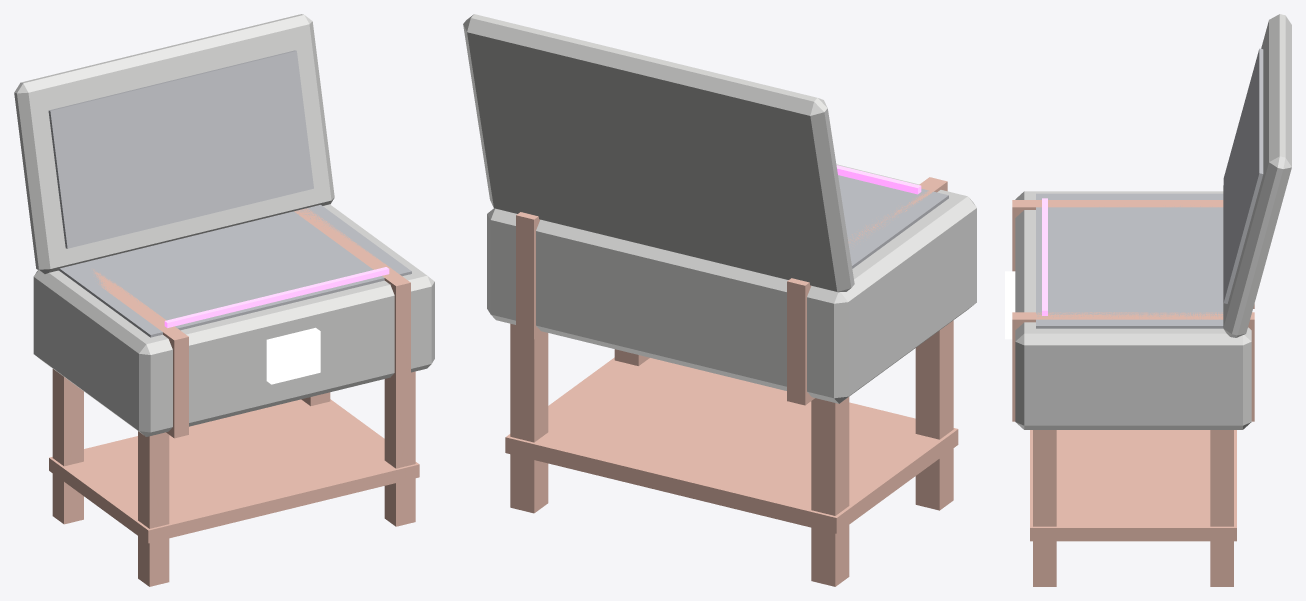
3 views of the same model, side by side, from view 1: azimuth 30°, elevation 25°; view 2: azimuth 150°, elevation 25°; view 3: azimuth 270°, elevation 25° (orthographic). The views are drawn at different scales.
Visible parts, largest first — view 1: lt_box_ag; view 2: lt_box_ag; view 3: lt_box_ag.
Boxes of the visible parts, x1,y1,x2,y2 form: lt_box_ag: (14,14,434,586); lt_box_ag: (463,14,976,586); lt_box_ag: (1005,14,1291,586).
Bounding box in the file's own units: 1.2 × 1.62 × 0.9712.
